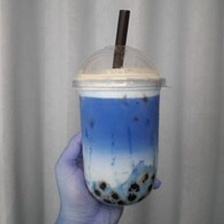drinking_straw: (108, 7, 136, 70)
glass: (66, 40, 166, 208)
